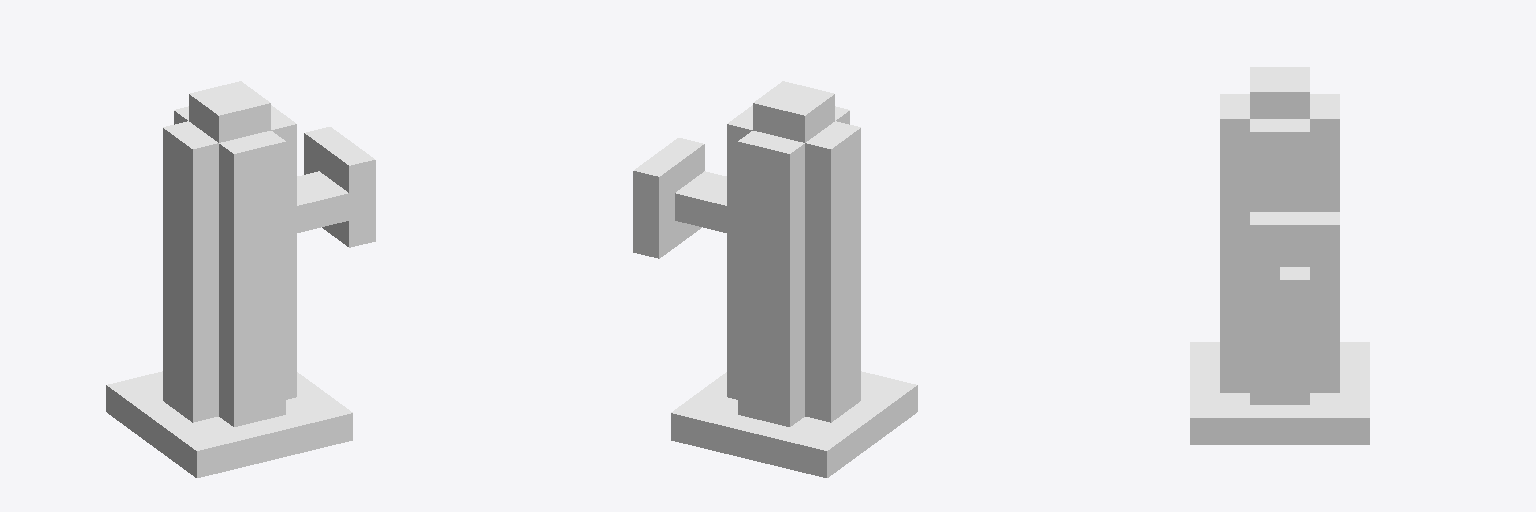
File: Hydrant.obj
The picture shows the model from 3 angles: view 1: azimuth 30°, elevation 25°; view 2: azimuth 150°, elevation 25°; view 3: azimuth 270°, elevation 25°; orthographic projection.
Bounding box in the file's own units: 8 × 12 × 6.